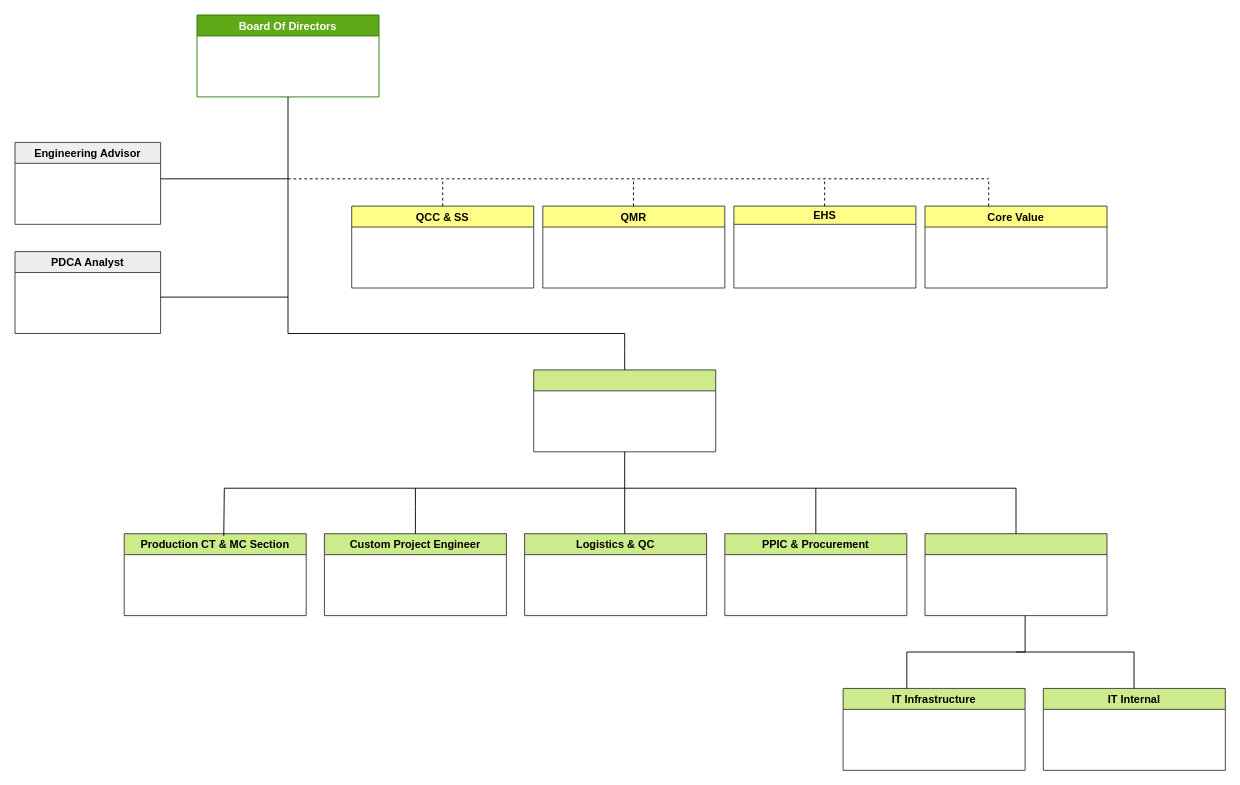
The diagram is 1240 pixels wide and 785 high, and some of its shapes have lost their labels. The shapes that lost their labels are listed below. From the top down, each one's centre as x and y in pixels, then its label:
At (624,410): "Supply Chain & IT Dept.Head".
At (1015,574): "IT".
